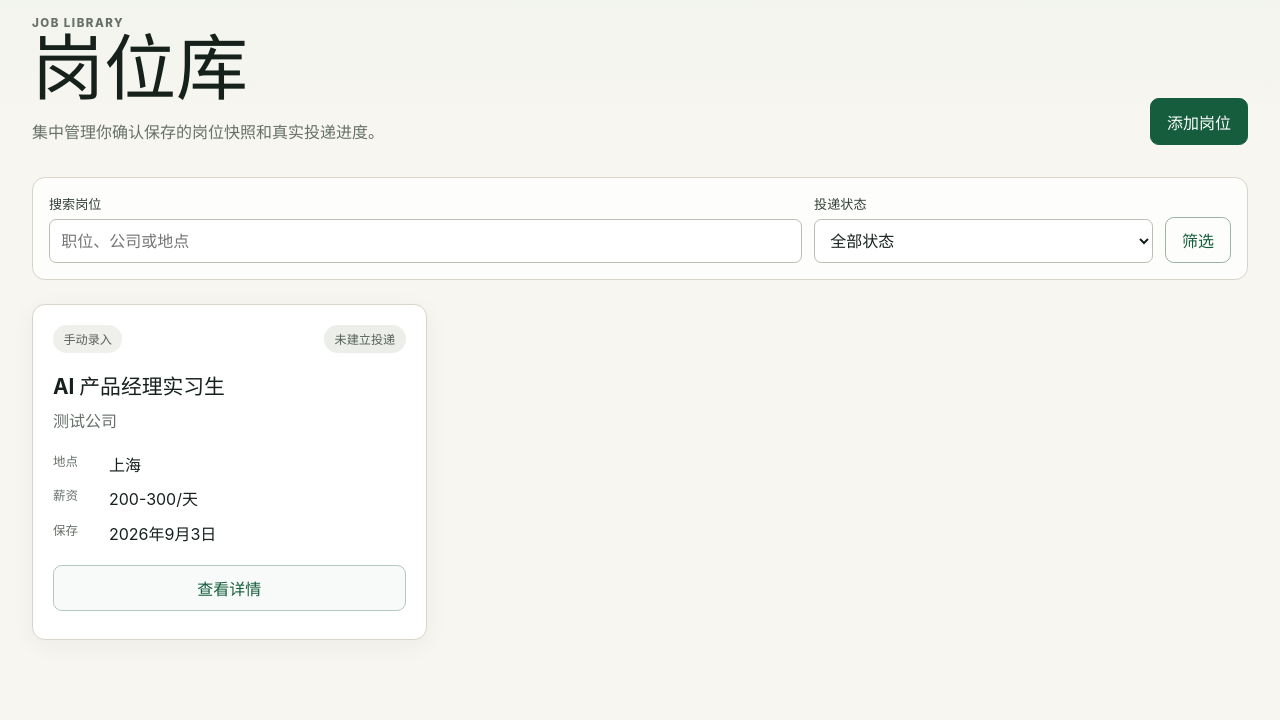
App › shows unconfigured AI without hiding or blocking the original JD
(page scrolled)
Click the button "查看详情" at (229, 588), box [53,565,406,611]
(page scrolled)
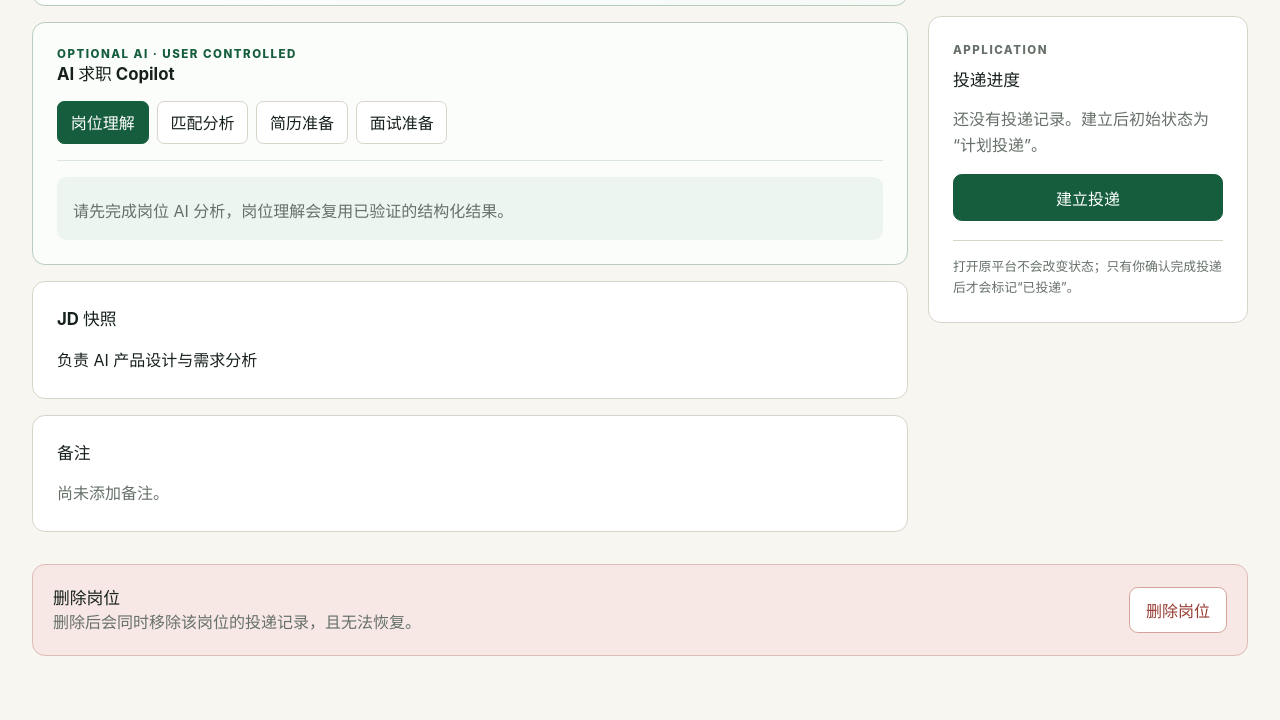
Expected: the text "负责 AI 产品设计与需求分析" is shown, [57,350,257,370]
